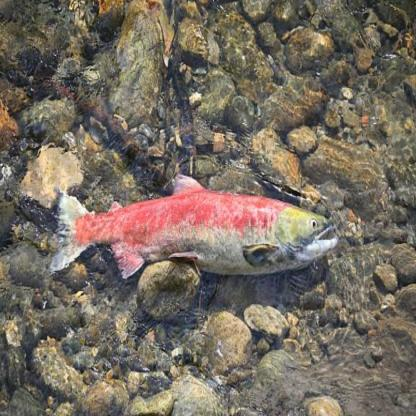sockeye: (53, 198, 336, 264)
